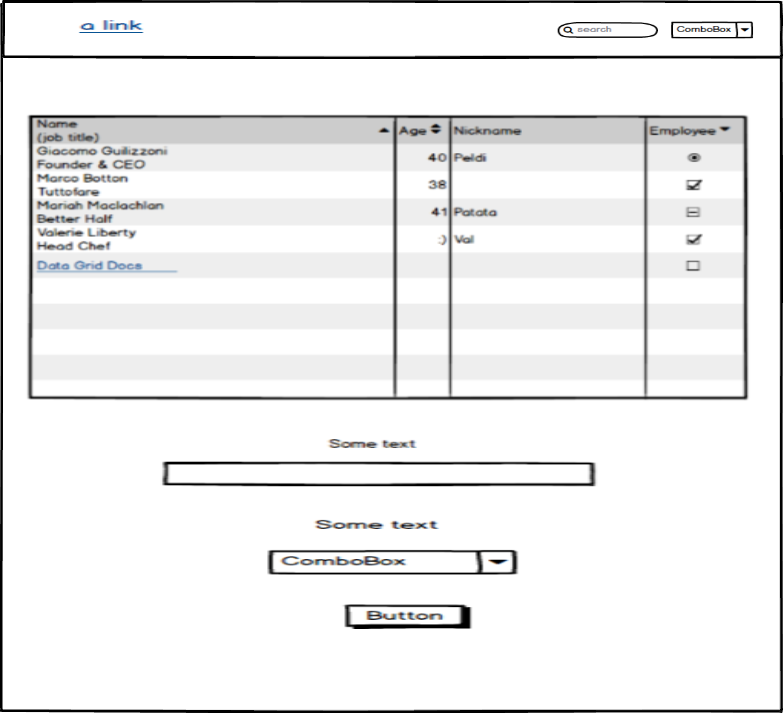button: (340, 598, 474, 633)
input: (156, 456, 602, 492)
label: (307, 509, 444, 535), (327, 431, 421, 451)
navlink: (72, 14, 147, 38)
search: (546, 17, 665, 43)
select_box: (264, 547, 526, 580), (669, 17, 756, 44)
table: (26, 110, 753, 404)
